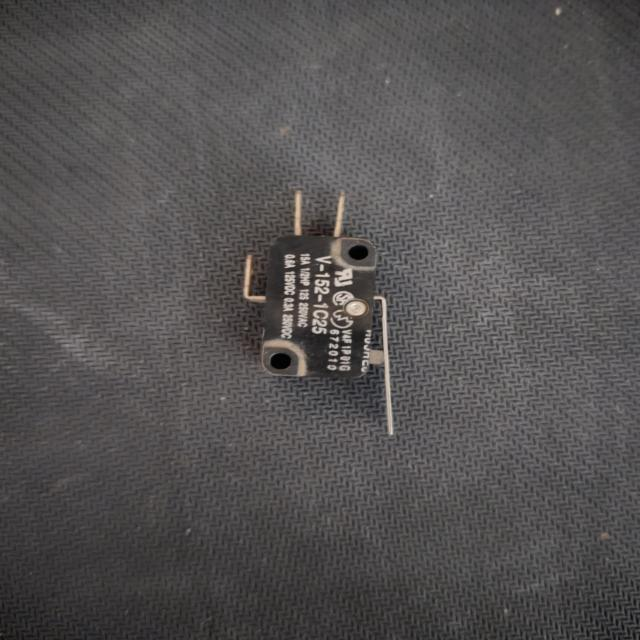switch: (227, 180, 414, 440)
